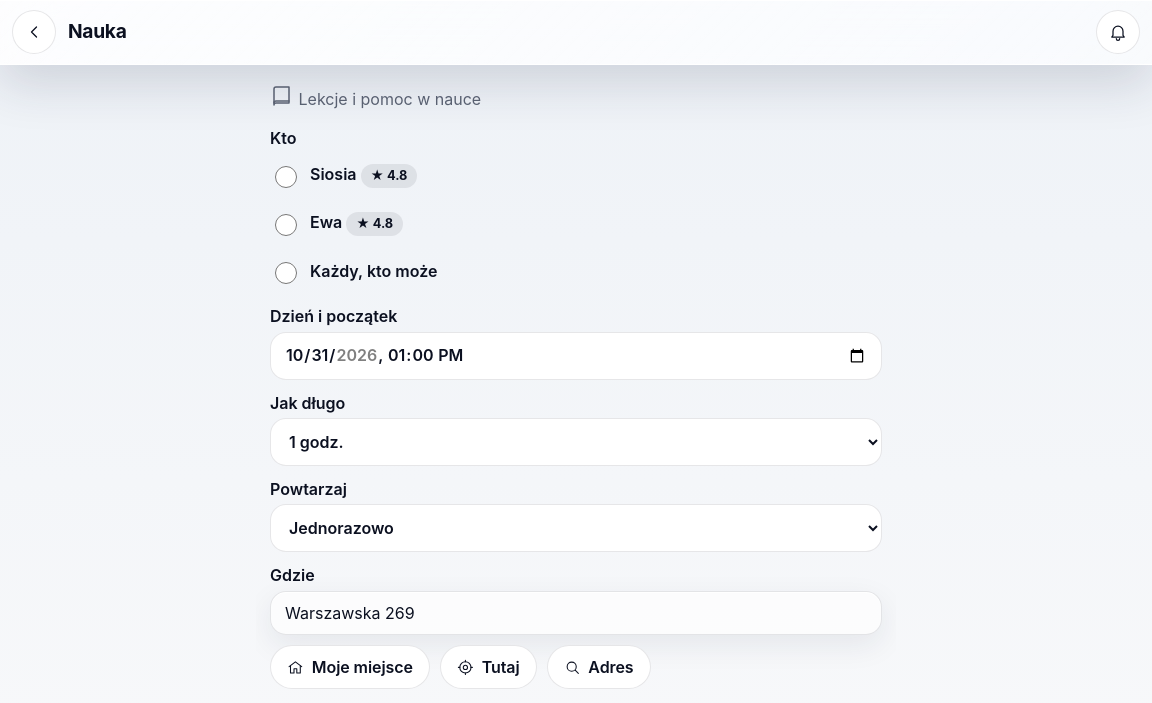
Test: C2 Request form (FR-094, FR-107) › asks for a provider when several offer it, and shows the price per occurrence
Step 1. Click the radio button labelled "Ewa ★ 4.8" → (286, 225), box [275,214,297,236]
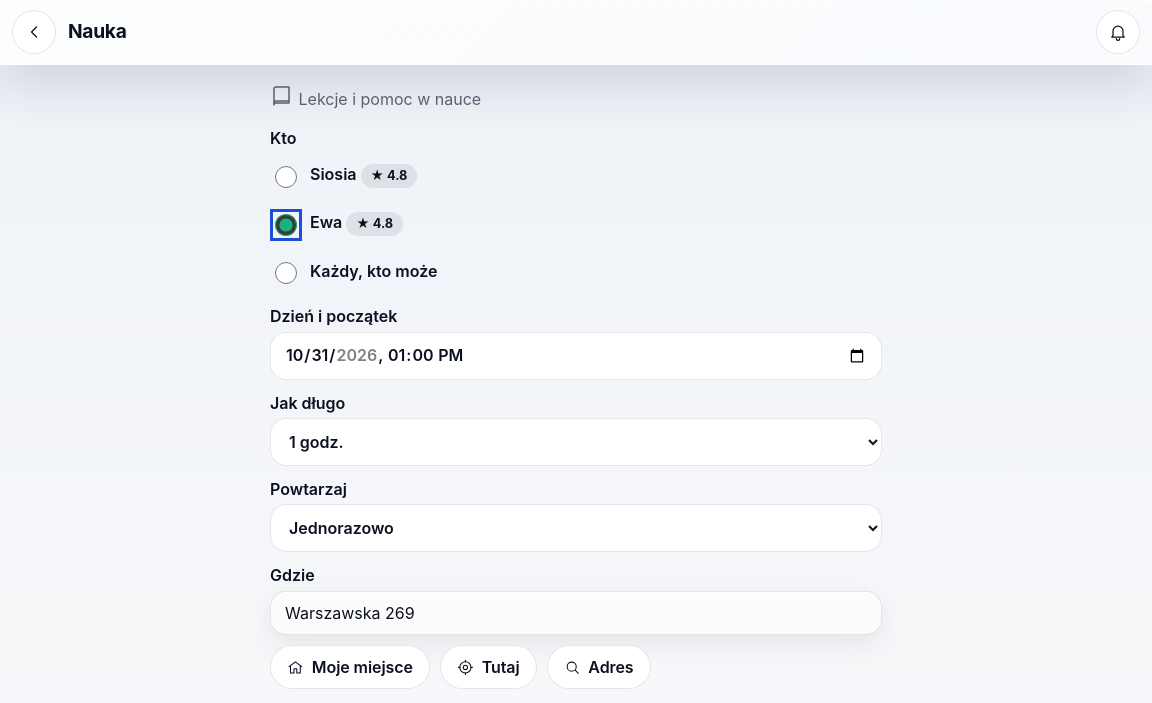
Step 2. Select "2 godz." in the dropdown with test id "request-duration" → (576, 442), box [270,418,882,466]
(page scrolled)
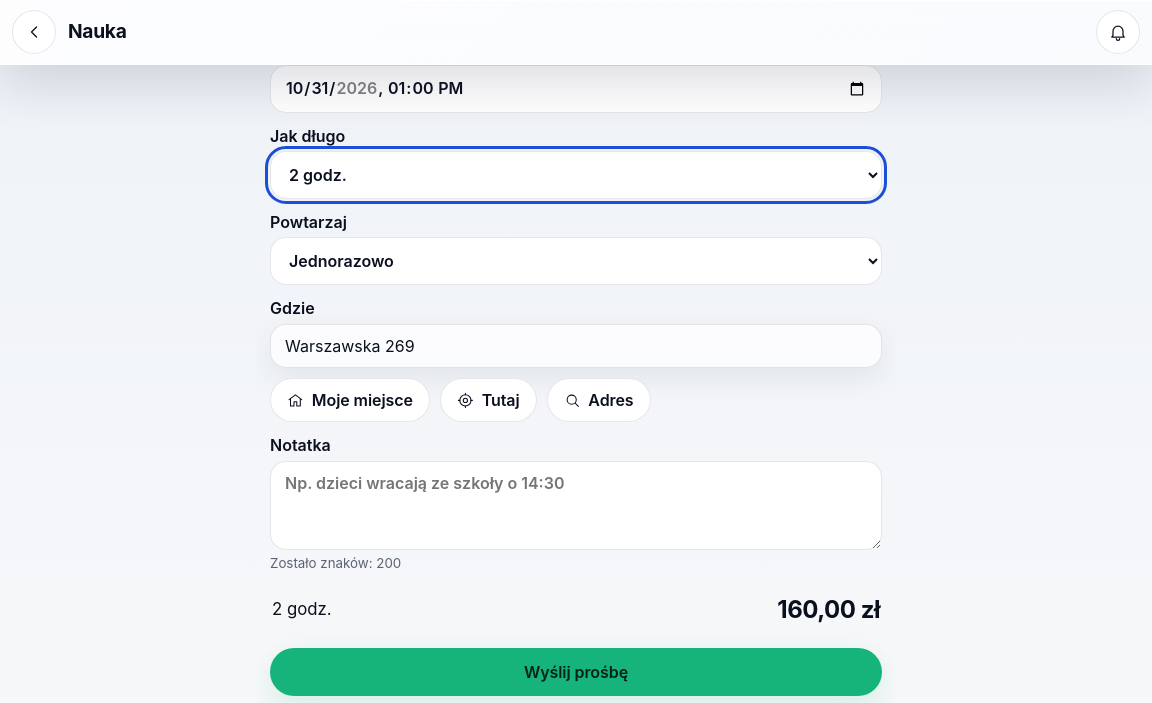
Expected: the element with test id "request-price" reads "2 godz. 160,00 zł", [777,595,880,624]
